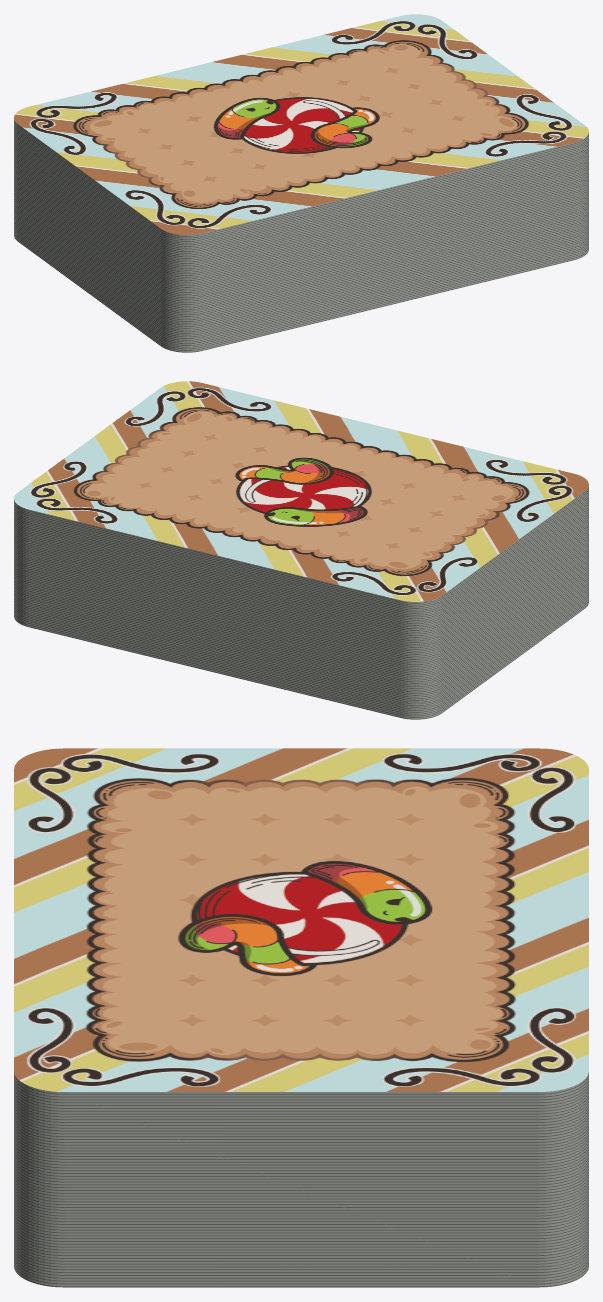
Rendered from cardstack_2.2.fbx.
3 renders of one model, top to bottom at view 1: azimuth 30°, elevation 25°; view 2: azimuth 150°, elevation 25°; view 3: azimuth 270°, elevation 25°, orthographic. The views are drawn at different scales.
Visible parts, largest first — view 1: Cube; view 2: Cube; view 3: Cube.
Boxes of the visible parts, <box> form: Cube: <box>14,14,588,352</box>; Cube: <box>14,381,588,719</box>; Cube: <box>14,748,588,1287</box>.
Bounding box in the file's own units: 283 × 75 × 200.
1 material, 1 textured.
